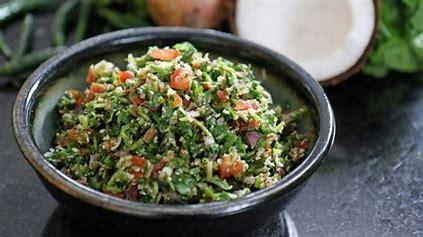Gotukola Mallum: (42, 36, 290, 214)
